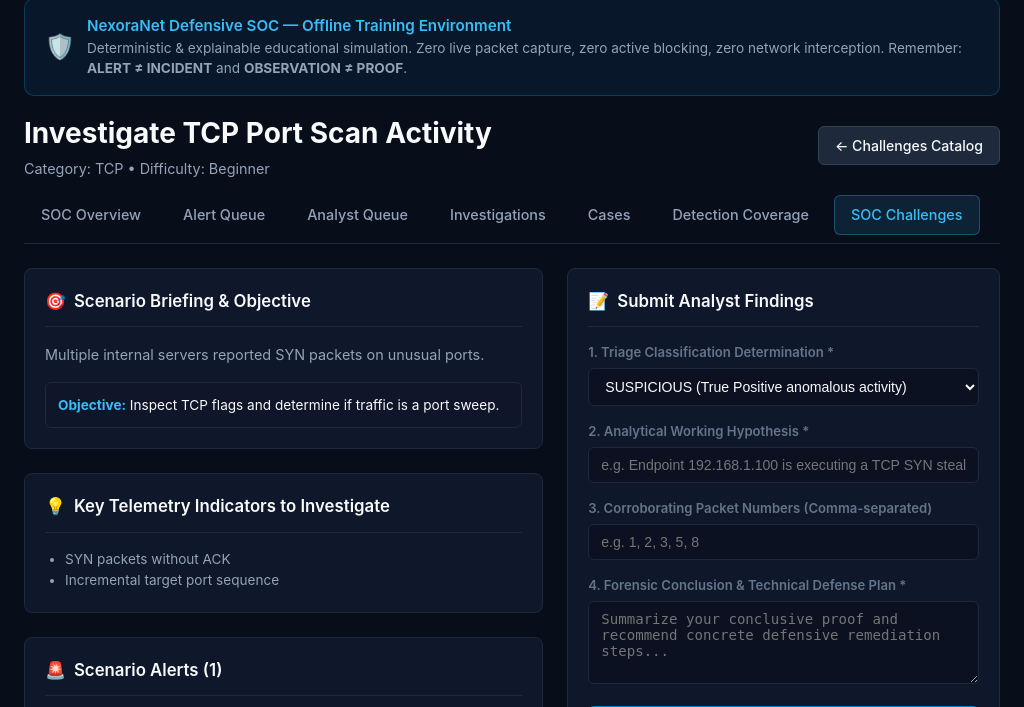
Step 12 SOC Dashboard, Alert Queue, Triage & Investigations › renders SOC Challenge Detail, submits findings, and displays scorecard
Check: the heading "Investigate TCP Port Scan Activity" is shown, box [24,112,492,154]
Check: the text "🎯 Scenario Briefing & Objective" is shown, box [45,289,311,314]
Replace the text in the field with placeholder "Endpoint 192.168.1.100 is executing" with "Port scan probing web ports." at [784, 465], box [588,447,979,483]
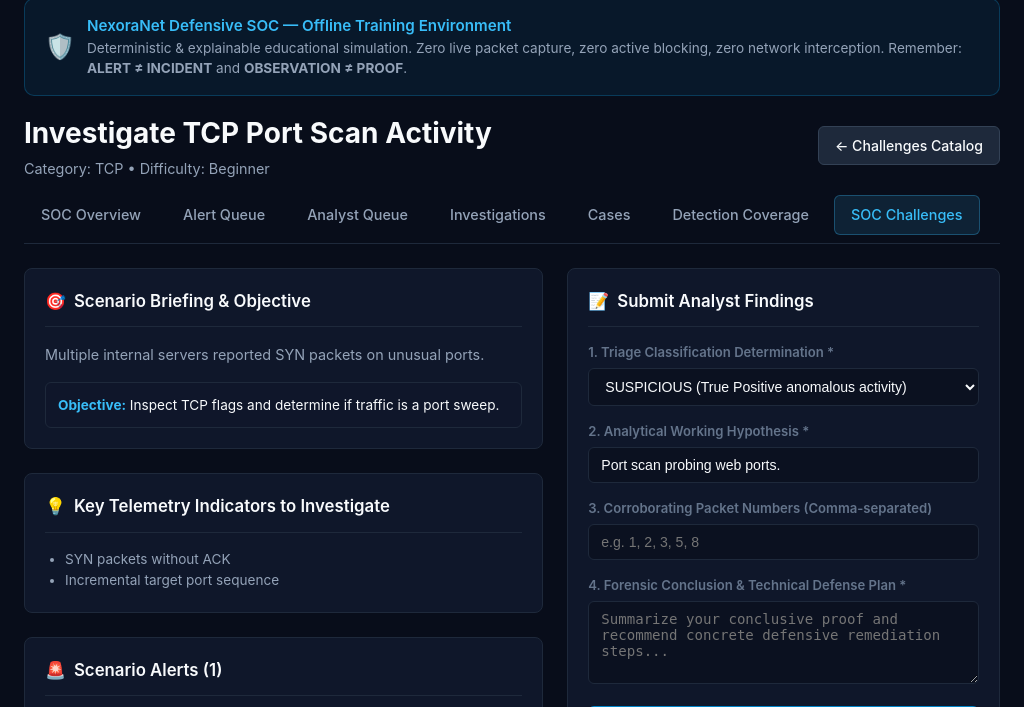
Replace the text in the text box with placeholder "Summarize your conclusive proof" with "Recommend firewall rate limiting." at [784, 643], box [588,601,979,684]
(page scrolled)
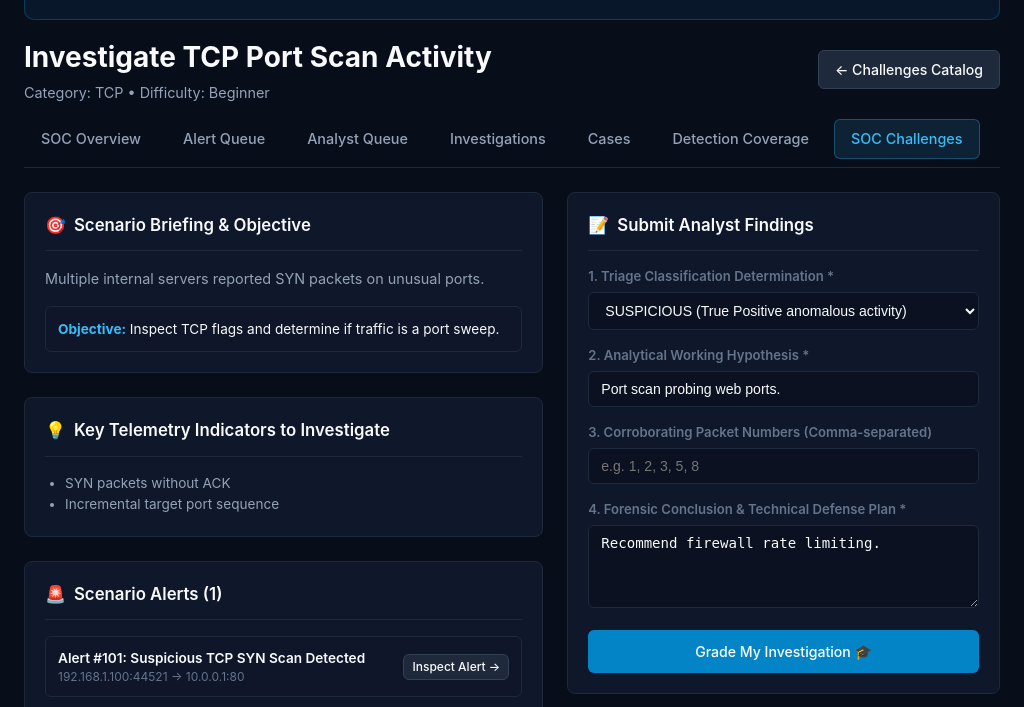
Click the button "Grade My Investigation 🎓".
click(784, 652)  # box [588,630,979,674]
(page scrolled)
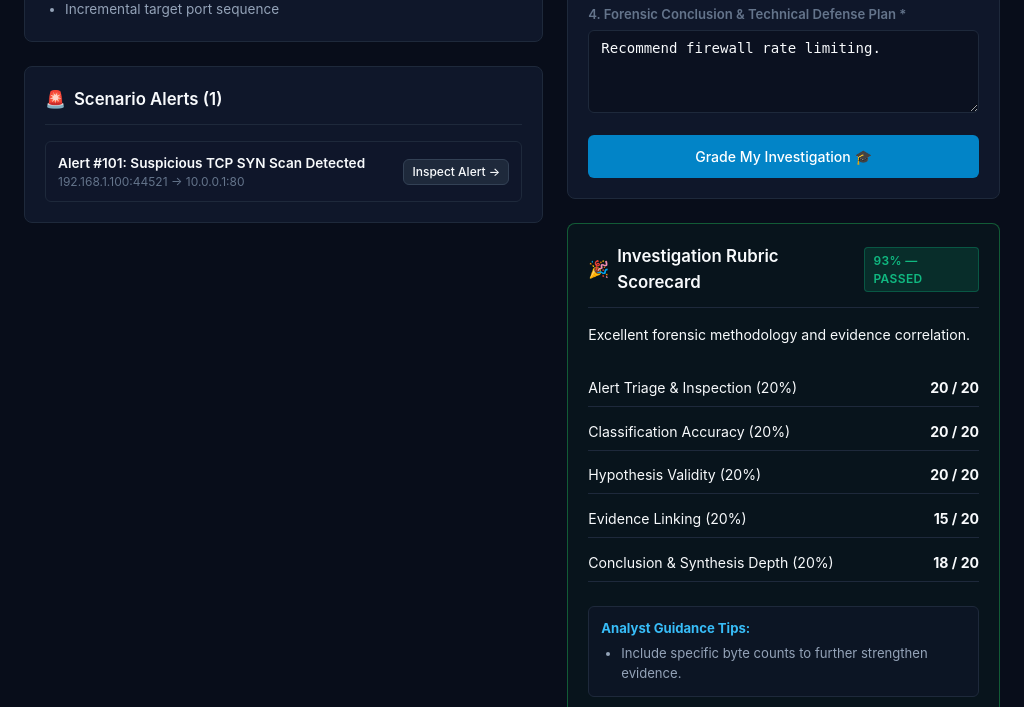
Check: the text "🎉 Investigation Rubric Scorecard" is shown, box [588,246,779,292]
Check: the text "93% — PASSED" is shown, box [864,248,979,292]
Check: the text "Alert Triage & Inspection (20%)" is shown, box [588,377,797,398]
